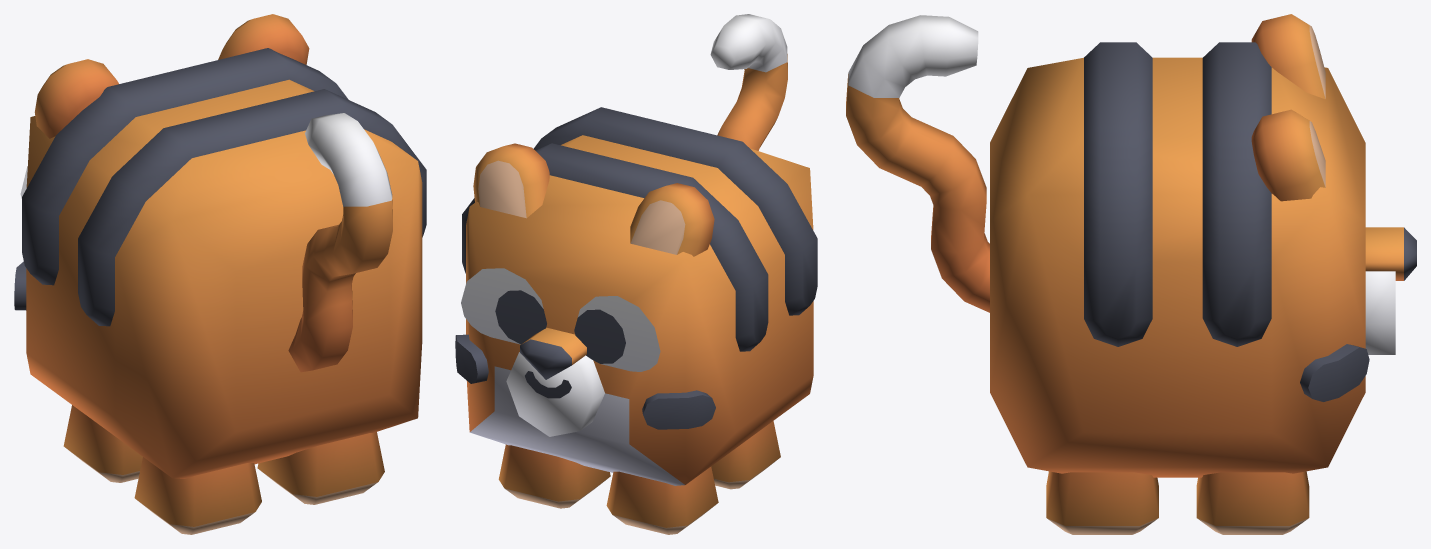
The model's file is Tiger.fbx.
3 renders of one model, left to right at view 1: azimuth 30°, elevation 25°; view 2: azimuth 150°, elevation 25°; view 3: azimuth 270°, elevation 25°, orthographic. The views are drawn at different scales.
Parts seen in each view (by area): view 1: Tiger; view 2: Tiger; view 3: Tiger.
Boxes of the visible parts, x1,y1,x2,y2 form: Tiger: (14, 14, 426, 534); Tiger: (455, 14, 817, 534); Tiger: (846, 14, 1416, 534).
Bounding box in the file's own units: 135 × 171 × 190.
